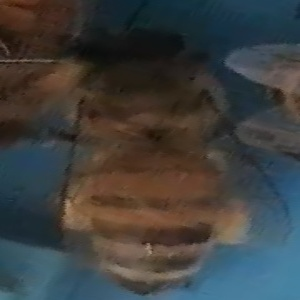bee: (72, 25, 225, 286)
